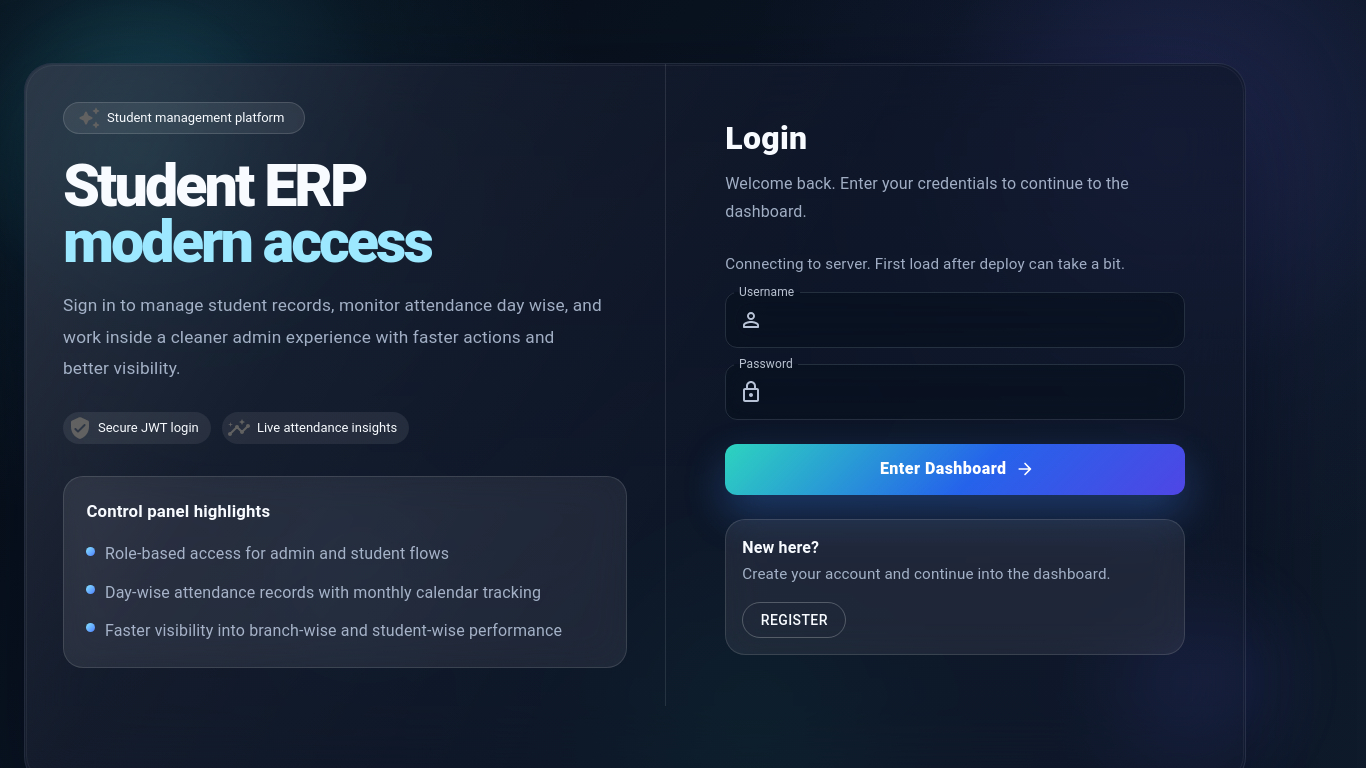
Test: Login Component › shows a warning if fields are empty on login attempt
What coordinates should you click on to do the following:
click the button "Enter Dashboard"
I would click on:
 (955, 469)
Its box is [725, 444, 1185, 495].
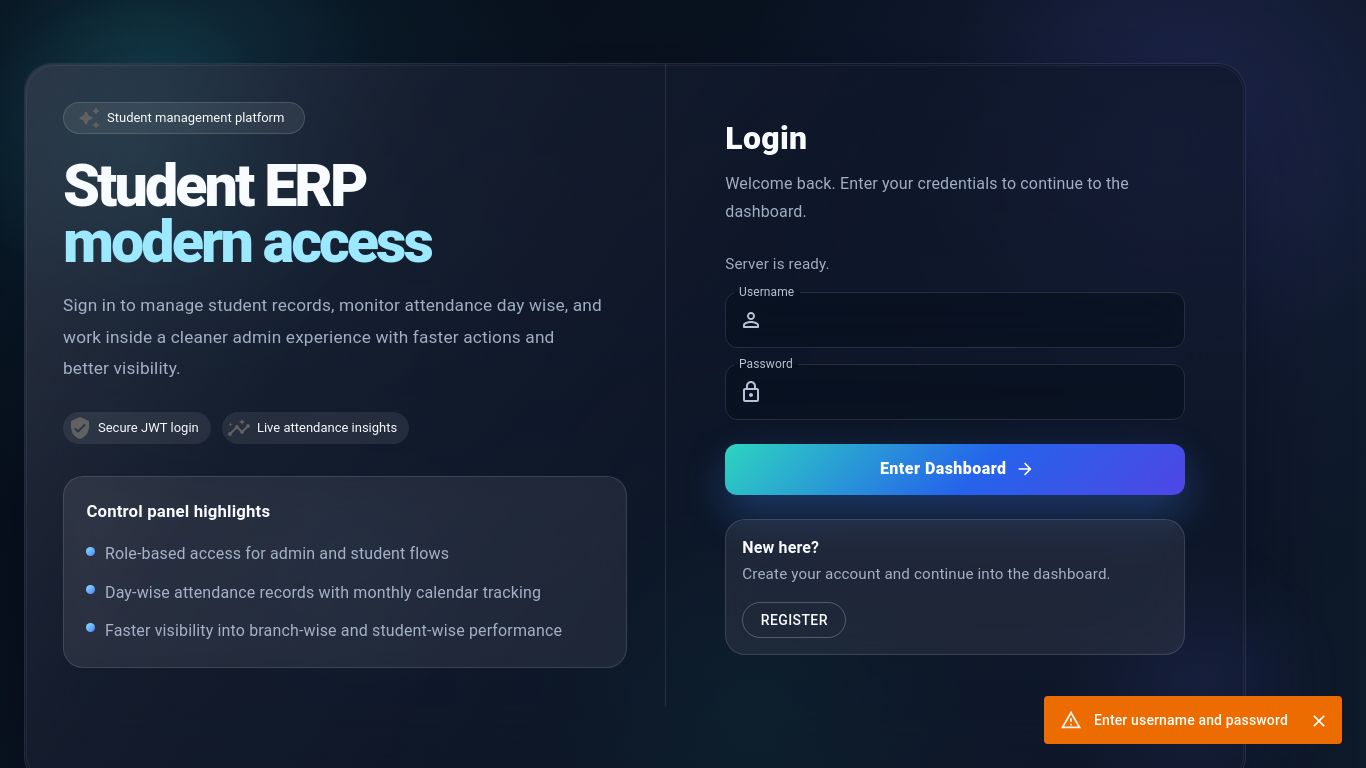
Result: the text "Enter username and password" is shown at [1094, 712, 1288, 728]
